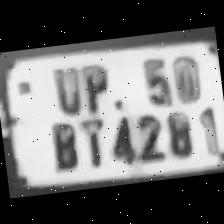0: (166, 50, 206, 104)
1: (190, 98, 224, 160)
2: (129, 106, 167, 166)
4: (102, 106, 138, 166)
5: (134, 55, 174, 108)
8: (160, 104, 196, 162)
B: (44, 116, 81, 173)
P: (76, 58, 116, 114)
T: (74, 113, 108, 168)
U: (46, 61, 84, 116)
